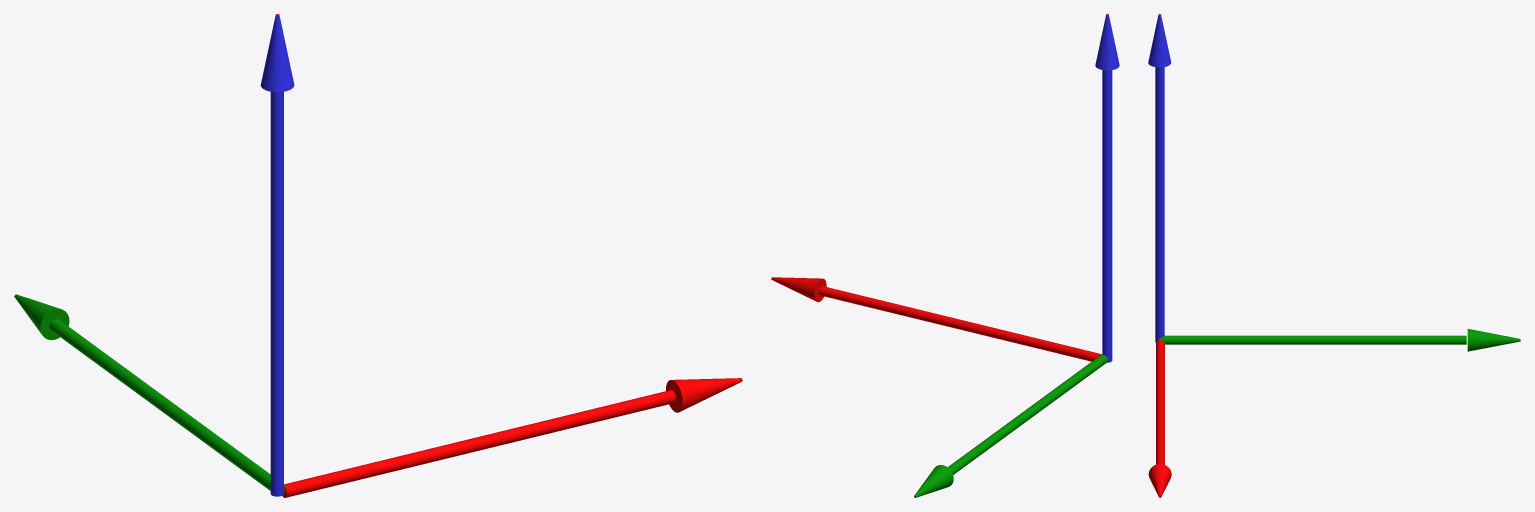
The picture shows the model from 3 angles, left to right: view 1: azimuth 30°, elevation 25°; view 2: azimuth 150°, elevation 25°; view 3: azimuth 270°, elevation 25°; orthographic projection. The views are drawn at different scales.
Parts seen in each view (by area): view 1: Group3, Group2, Group1; view 2: Group3, Group2, Group1; view 3: Group1, Group3, Group2.
Part boxes in pixels (x1,y1,x2,y2): Group3: [260, 14, 294, 496]; Group2: [282, 378, 742, 497]; Group1: [14, 294, 284, 492]; Group3: [1095, 14, 1119, 362]; Group2: [771, 277, 1101, 361]; Group1: [914, 354, 1108, 497]; Group1: [1159, 329, 1520, 351]; Group3: [1148, 14, 1171, 342]; Group2: [1148, 340, 1171, 497].
Bounding box in the file's own units: 1.64 × 1.61 × 1.61.
